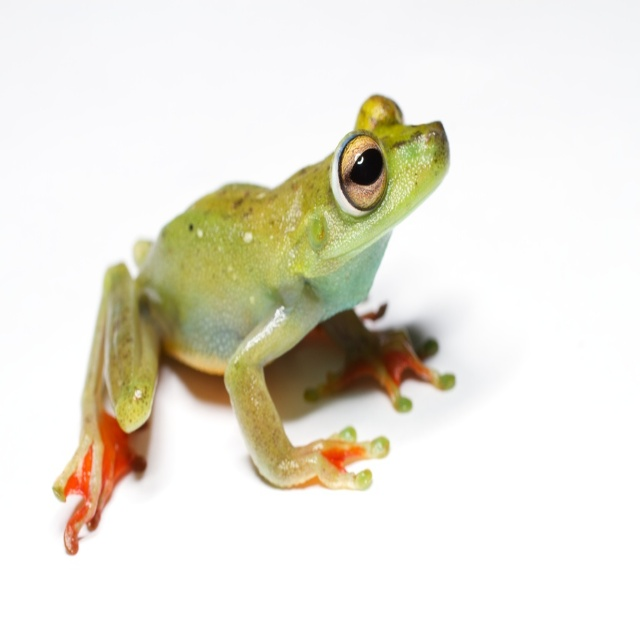Frog: (51, 91, 450, 558)
